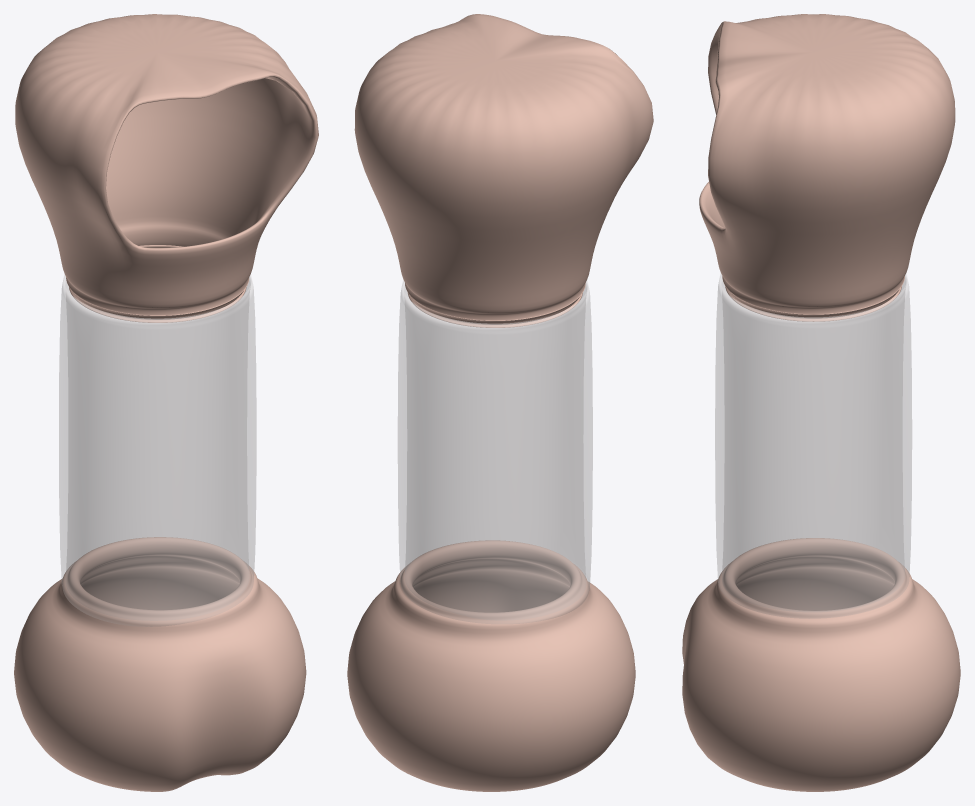
The model's file is pink.glb.
3 renders of one model, left to right at view 1: azimuth 30°, elevation 25°; view 2: azimuth 150°, elevation 25°; view 3: azimuth 270°, elevation 25°, orthographic.
Parts seen in each view (by area): view 1: top cup, Cylinder, bottomcup; view 2: top cup, Cylinder, bottomcup; view 3: top cup, Cylinder, bottomcup.
Part boxes in pixels (left/top/right/bottom): top cup: left=15, top=14, right=318, bottom=322; Cylinder: left=59, top=274, right=256, bottom=626; bottomcup: left=14, top=537, right=306, bottom=791; top cup: left=354, top=14, right=653, bottom=327; Cylinder: left=398, top=280, right=592, bottom=623; bottomcup: left=347, top=540, right=635, bottom=791; top cup: left=699, top=14, right=955, bottom=321; Cylinder: left=715, top=273, right=911, bottom=618; bottomcup: left=682, top=538, right=960, bottom=791.
Size of the model in its own units: 3.04 by 8.1 by 2.9.
